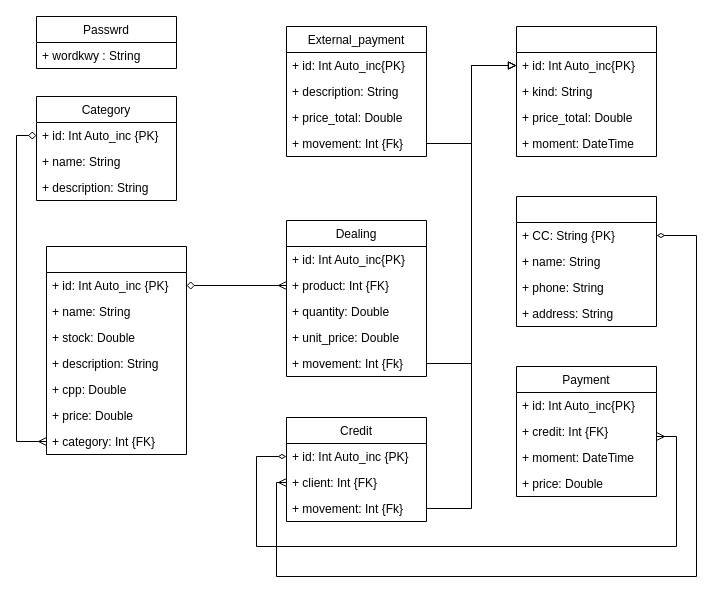
This 713x593 diagram has some shape labels left out. Here are the shapes that lost their labels. From the top down, the box of each, then its label:
(516, 26, 656, 156): Movement
(516, 196, 656, 326): Client
(46, 246, 186, 454): Product
